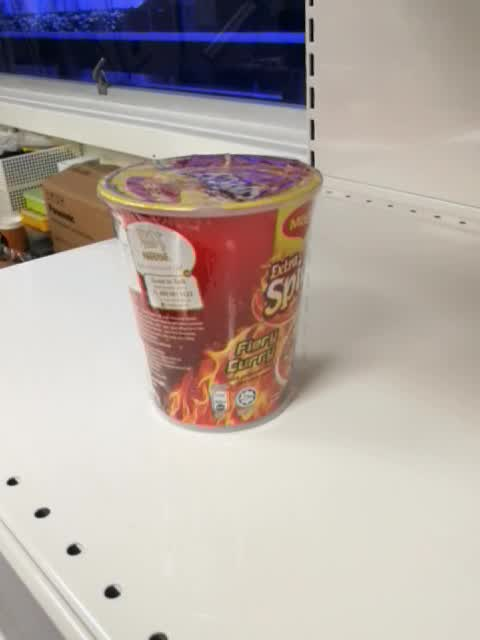maggi: (95, 154, 325, 434)
